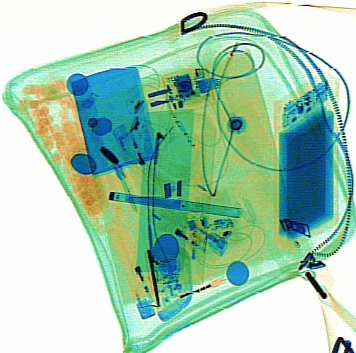lighter: (105, 221, 157, 320), (144, 200, 228, 259), (109, 121, 156, 196)
